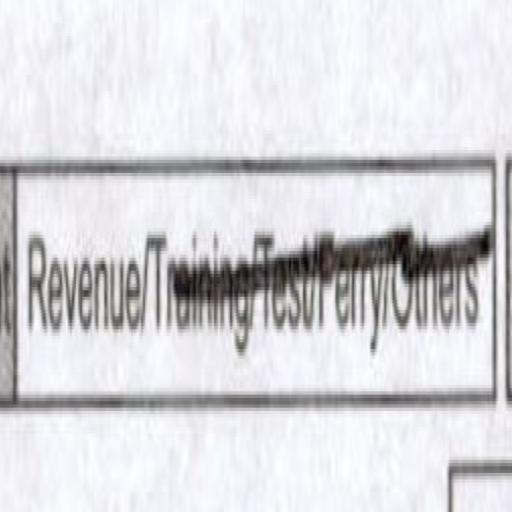check: (18, 176, 144, 397)
